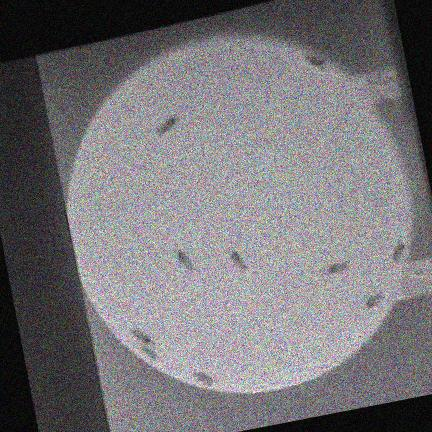fly: (155, 115, 177, 134), (129, 328, 152, 345), (303, 53, 325, 70), (192, 370, 215, 386), (174, 250, 192, 270), (229, 249, 246, 269), (139, 344, 157, 361), (363, 292, 381, 309), (322, 261, 347, 273), (391, 241, 403, 262)
